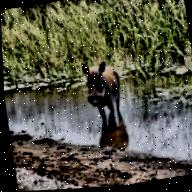boar: (79, 56, 126, 128)
